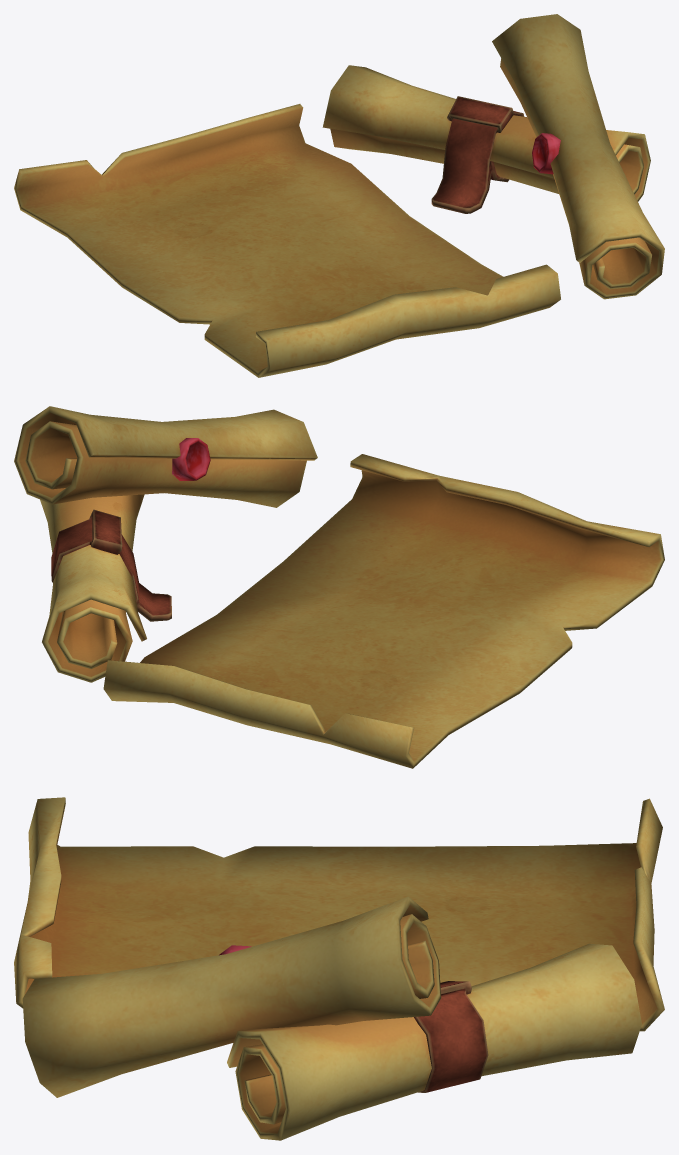
File: scrolls.glb
3 views of the same model, one above another, from view 1: azimuth 30°, elevation 25°; view 2: azimuth 150°, elevation 25°; view 3: azimuth 270°, elevation 25° (orthographic). The views are drawn at different scales.
Parts seen in each view (by area): view 1: Object_2; view 2: Object_2; view 3: Object_2.
Part boxes in pixels (x1,y1,x2,y2): Object_2: (14,14,664,377); Object_2: (14,406,664,768); Object_2: (14,797,664,1140).
Bounding box in the file's own units: 0.8954 × 0.2969 × 0.8107.
1 material, 1 textured.
